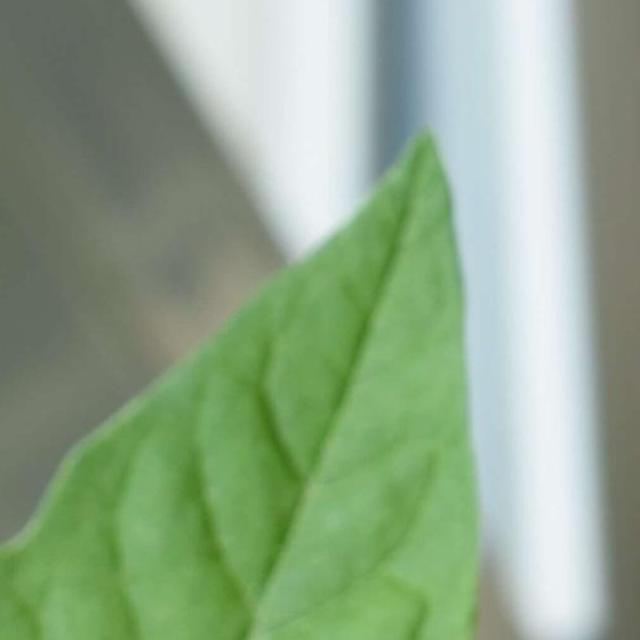Tomato leaf: (491, 0, 640, 183)
